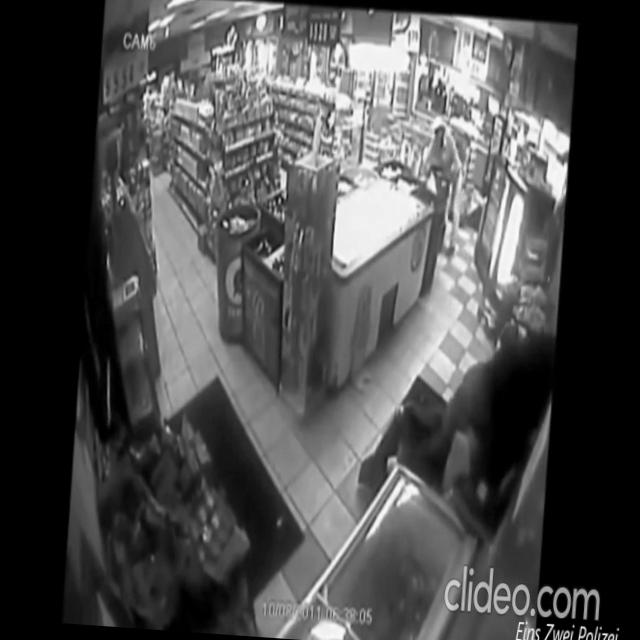person: (386, 314, 557, 517), (408, 112, 468, 262)
